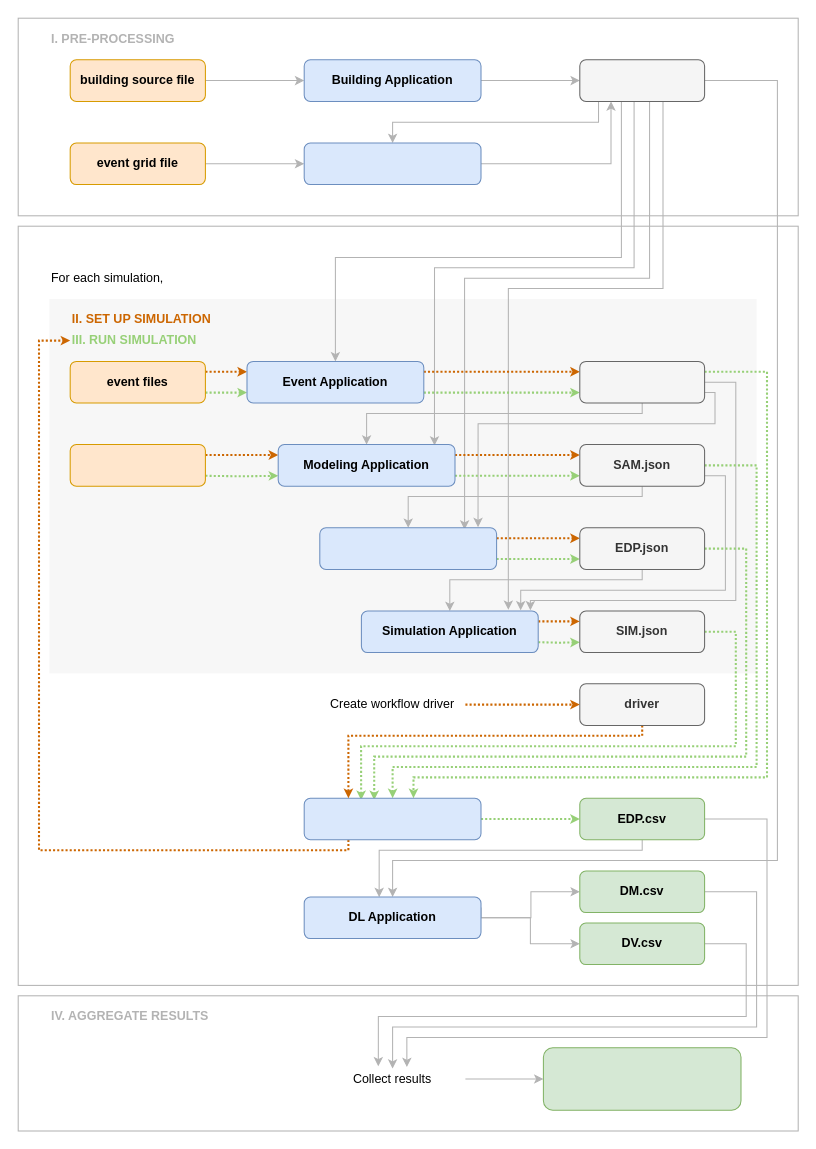
Some shapes in this 816 by 1149 pixel diagram are drawn without their labels. The box of each missing label's shape, as (x1, y1, x2, y2) in pixels:
#-BIM.json: (579, 59, 705, 101)
DL_summary.csv EDP_{min id}_{max id}.csv: (542, 1047, 741, 1110)
EDP Application: (319, 527, 497, 569)
EVENT.json: (579, 360, 705, 403)
model files: (69, 444, 205, 486)
Regional Event Application: (303, 142, 481, 185)
UQ Application: (303, 797, 481, 840)
